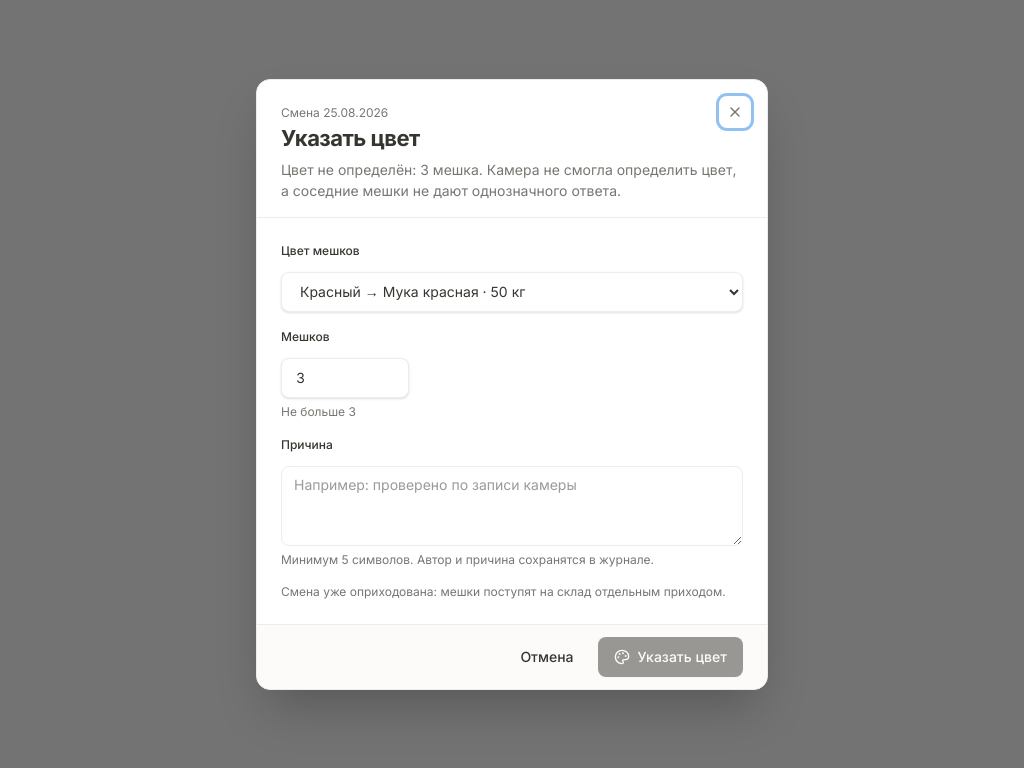
UnknownColorDialog › показывает ошибку сервера внутри окна и не закрывает его
The width and height of the screenshot is (1024, 768).
Expected: the text "отдельным приходом" is shown, top-left (281, 584), bottom-right (726, 598)
In the text box labelled "Причина": [512, 506] box top-left (281, 466), bottom-right (743, 546), type "Проверено по записи"
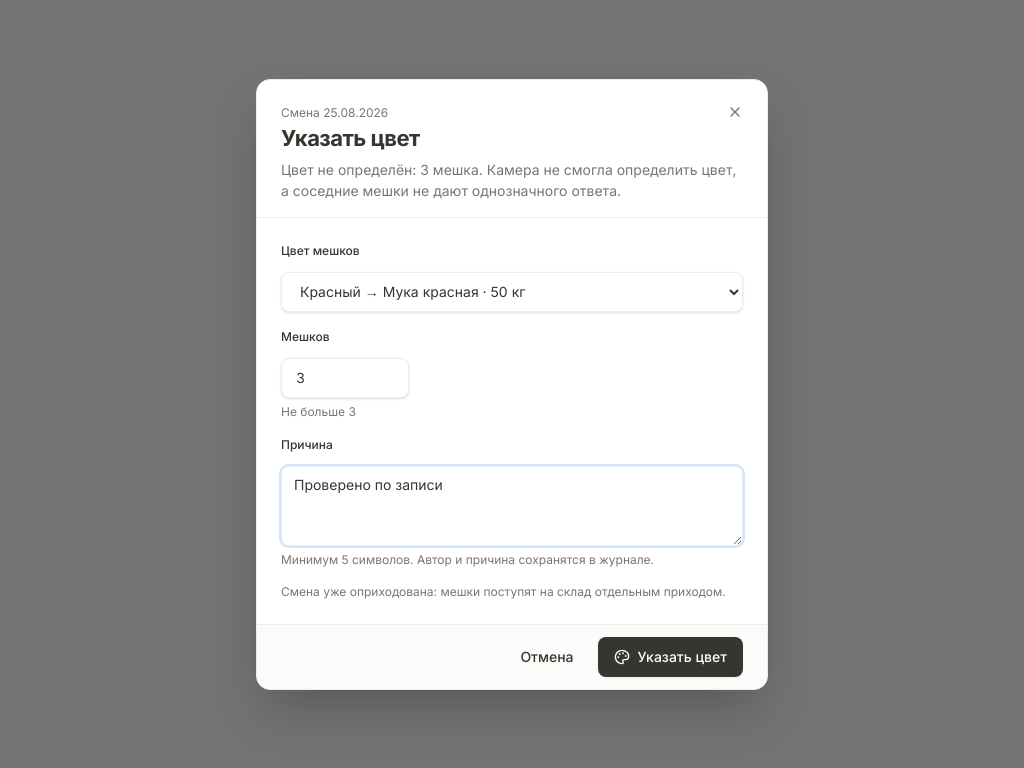
Click the button "Указать цвет": [670, 656] box top-left (598, 636), bottom-right (743, 676)
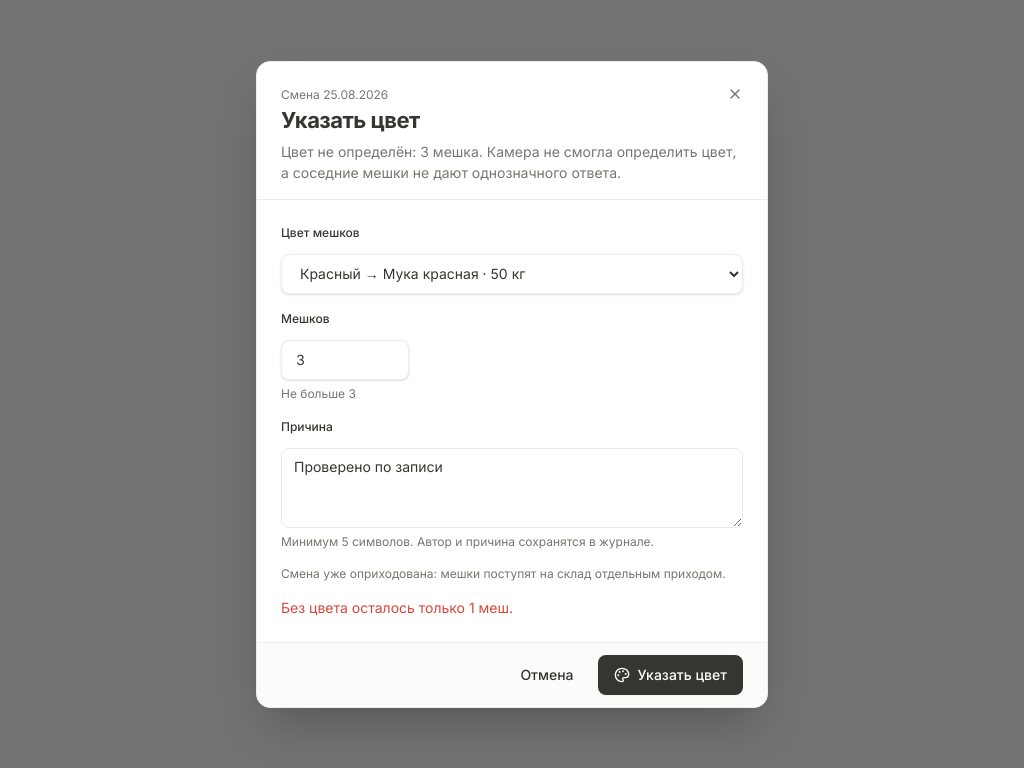
Expected: the message reads "Без цвета осталось только 1 меш.", top-left (281, 598), bottom-right (513, 616)
